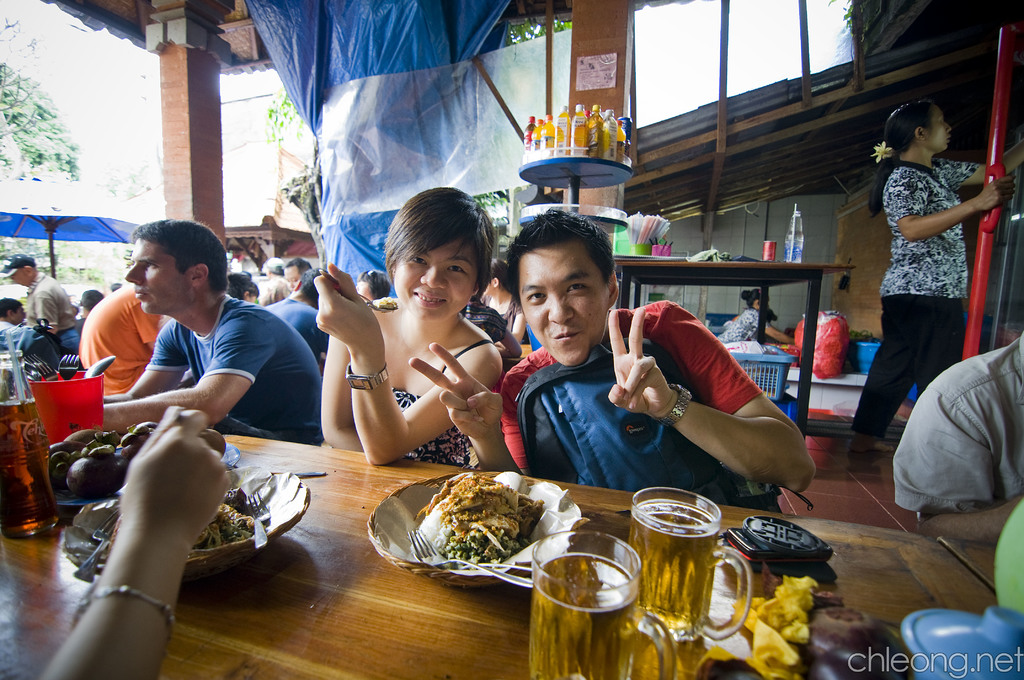Beer: (631, 480, 755, 670), (528, 526, 672, 679)
